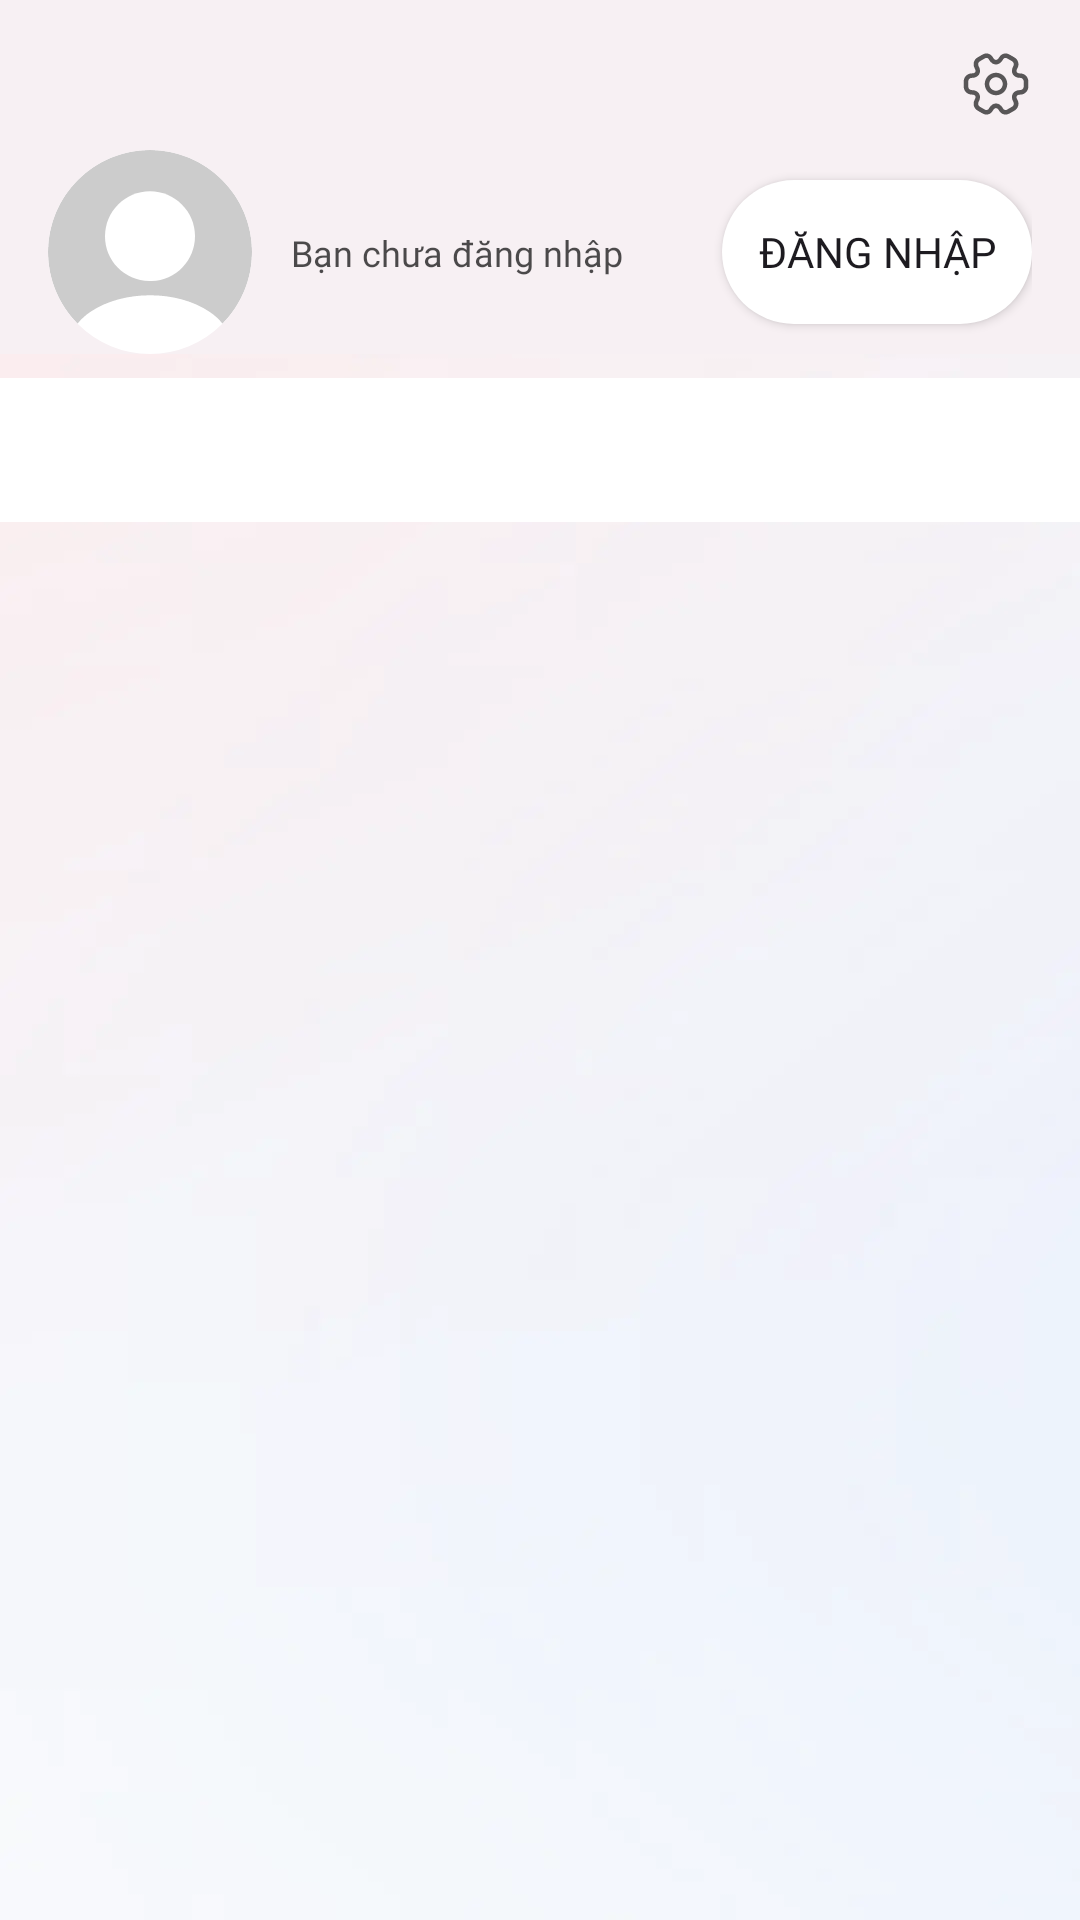

Screen size 1080px x 1920px. Icon name, then its center in pixels as point (x, y):
profile: point (150, 236)
setting: point (996, 84)
